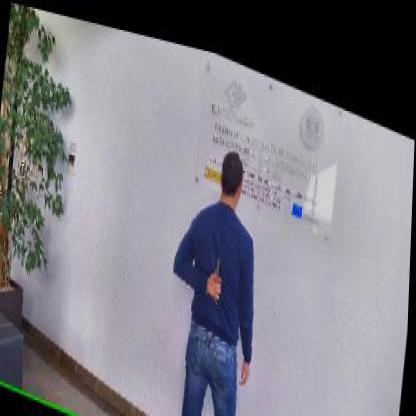knife: (212, 238, 228, 291)
